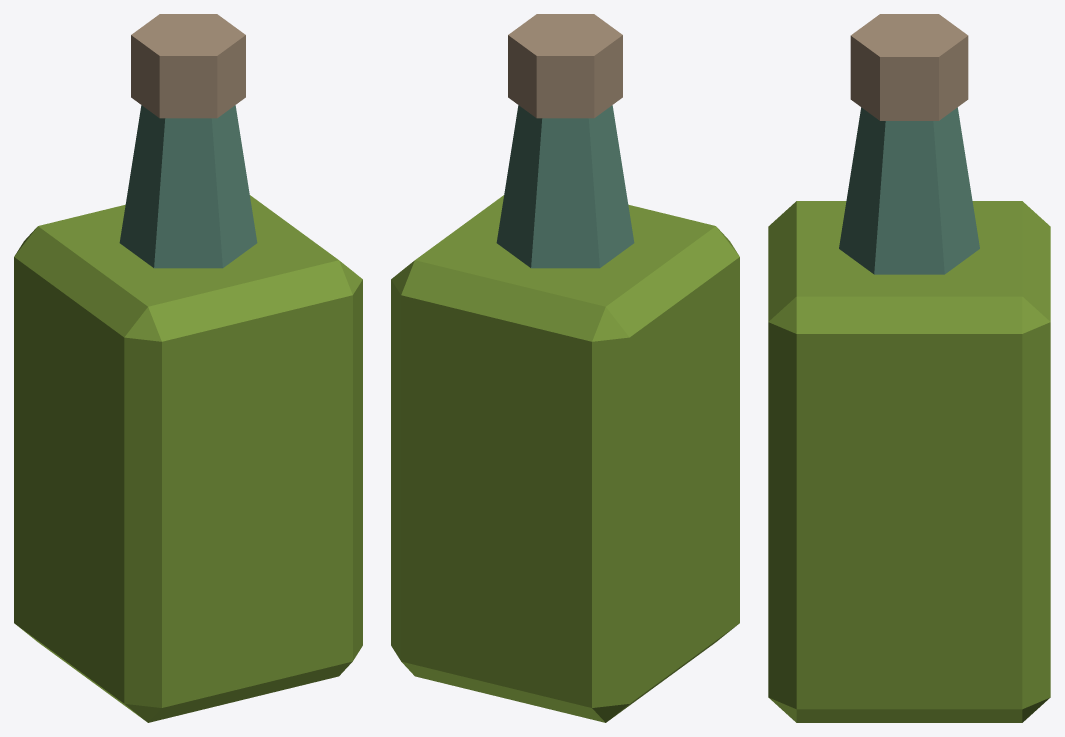
File: potion_3_2.glb
The picture shows the model from 3 angles, left to right: view 1: azimuth 30°, elevation 25°; view 2: azimuth 150°, elevation 25°; view 3: azimuth 270°, elevation 25°; orthographic projection. The views are drawn at different scales.
Parts seen in each view (by area): view 1: Potion_3_2; view 2: Potion_3_2; view 3: Potion_3_2.
Boxes of the visible parts, left/top/right/bottom form: Potion_3_2: left=14, top=14, right=362, bottom=722; Potion_3_2: left=391, top=14, right=739, bottom=722; Potion_3_2: left=768, top=14, right=1050, bottom=722.
Size of the model in its own units: 0.18 by 0.45 by 0.18.
